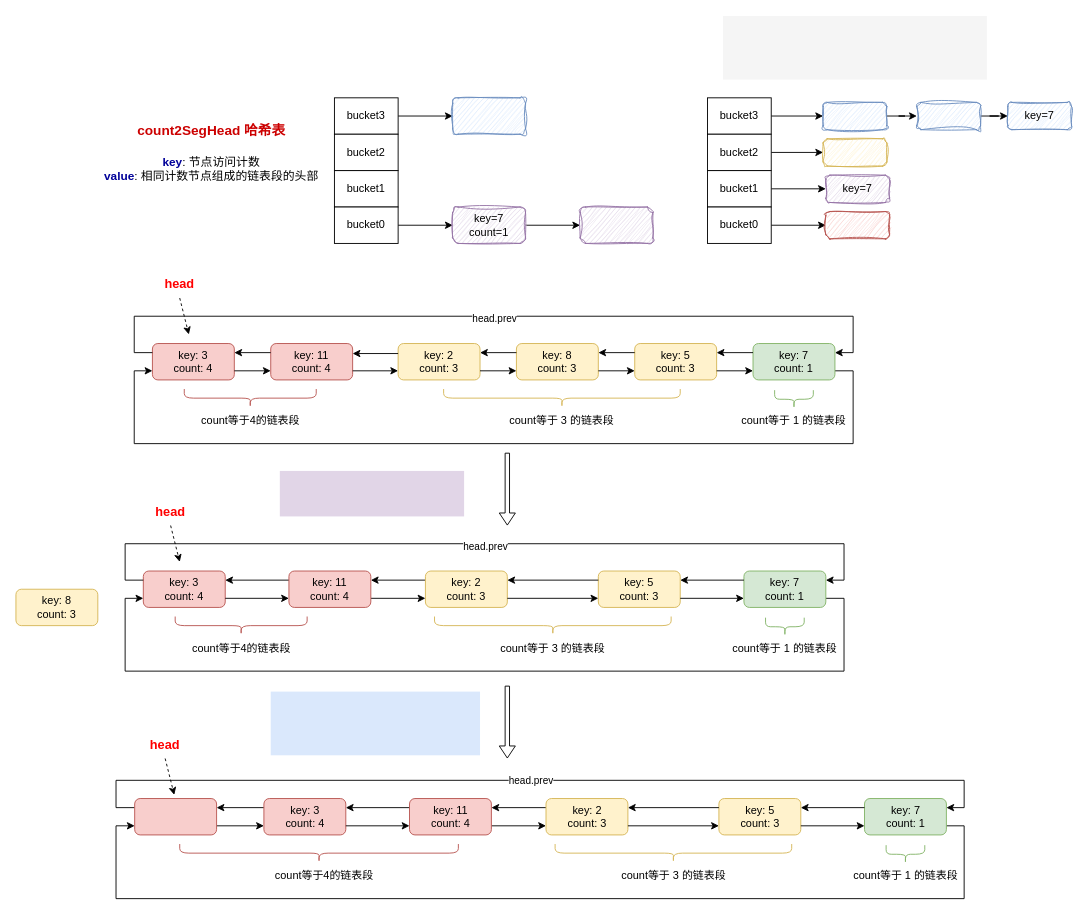
The diagram is 1087 pixels wide and 922 high, and some of its shapes have lost their labels. The centre of each missing label's shape, as x and y in pixels:
"key2Node 哈希表 key : 节点的键 value : 节点指针" goes at point (854, 47).
"key: 8 count: 4" goes at point (175, 816).
"key=11" goes at point (948, 115).
"key=2" goes at point (854, 152).
"key=2 count=3" goes at point (489, 115).
"key=3 count=4" goes at point (616, 224).
"key=5" goes at point (854, 115).
"key=8" goes at point (857, 225).
"步骤一： 利用 key2Node 找到 key=8 的节点 从链表中移除该节点" goes at point (371, 493).
"步骤二： count2SegHead 找到 频数 4 的链表段 更新节点频数 将 key=8 插入链表段的头部" goes at point (375, 723).
